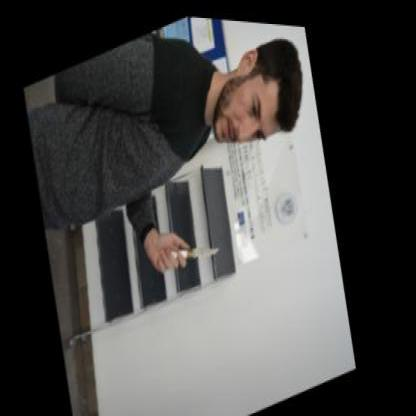knife: (170, 215, 228, 270)
